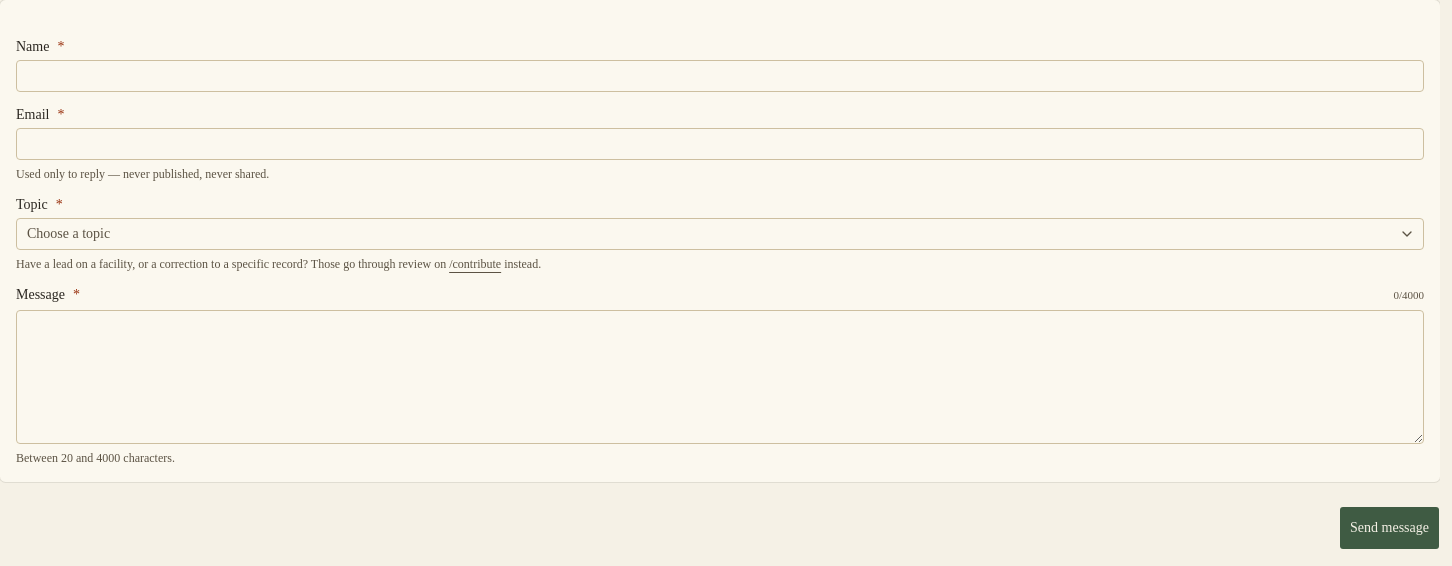
Test: ContactForm — submit outcomes › POSTs the trimmed payload (incl. chosen topic) to /api/contact
Step 1. Type "  Jane Reporter  " into the field labelled "Name *" → (720, 76), box [16,60,1424,92]
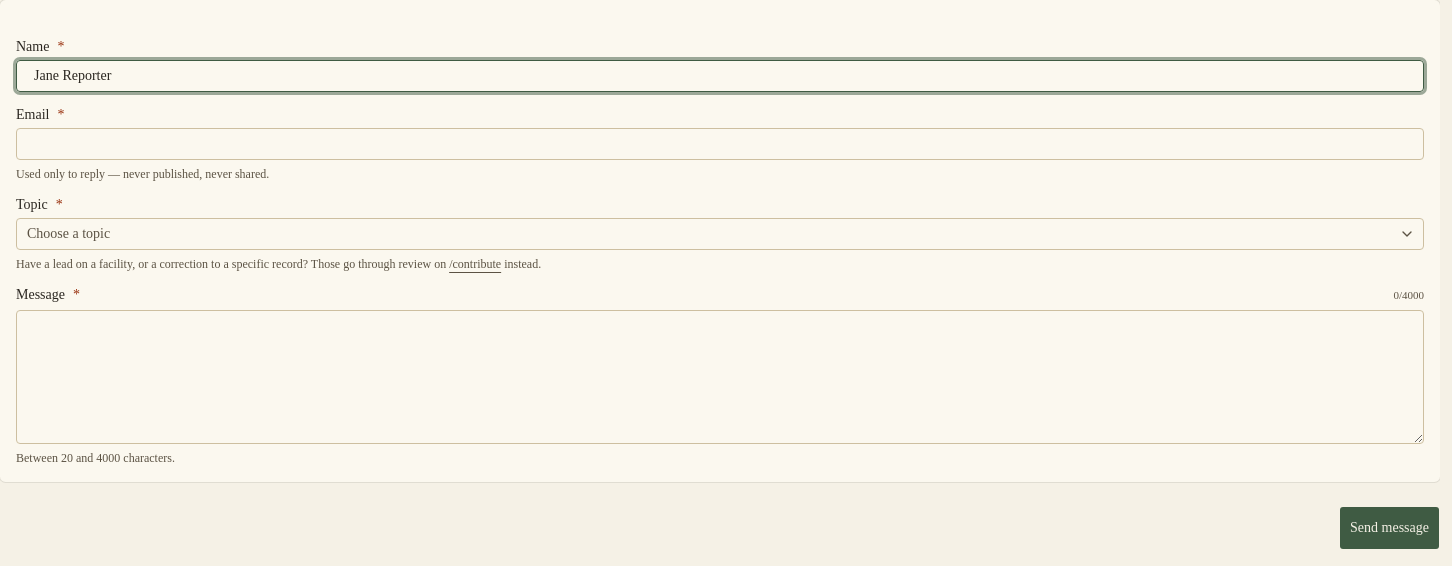
Step 2. Type "  jane@example.com  " into the field labelled "Email *" → (720, 144), box [16,128,1424,160]
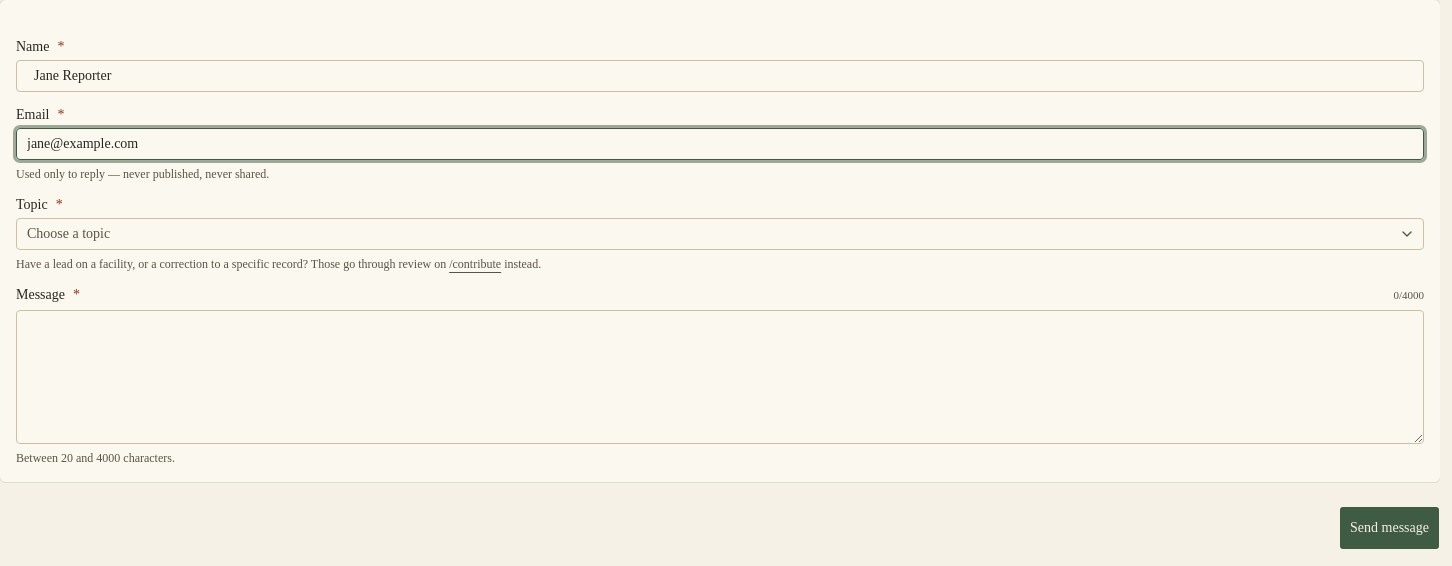
Step 3. Click the dropdown labelled "Choose a topic ▼" → (69, 234), box [16,218,1424,250]
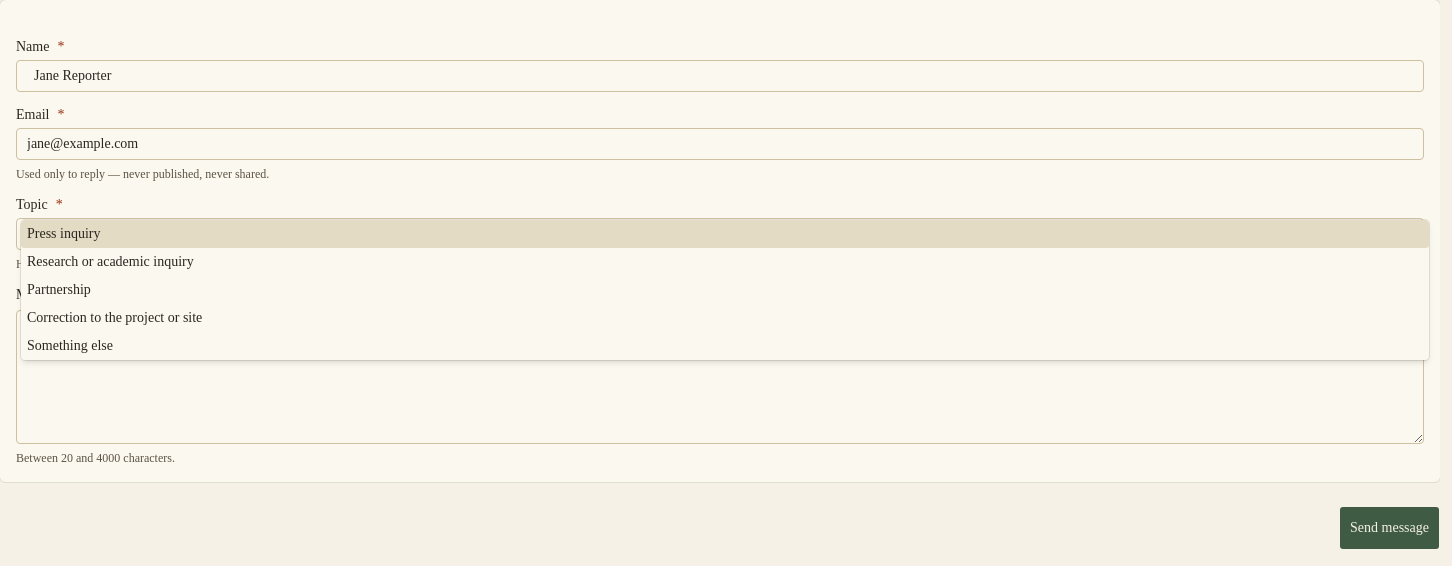
Step 4. Click the option "Press inquiry" → (64, 234), box [21,220,1429,248]
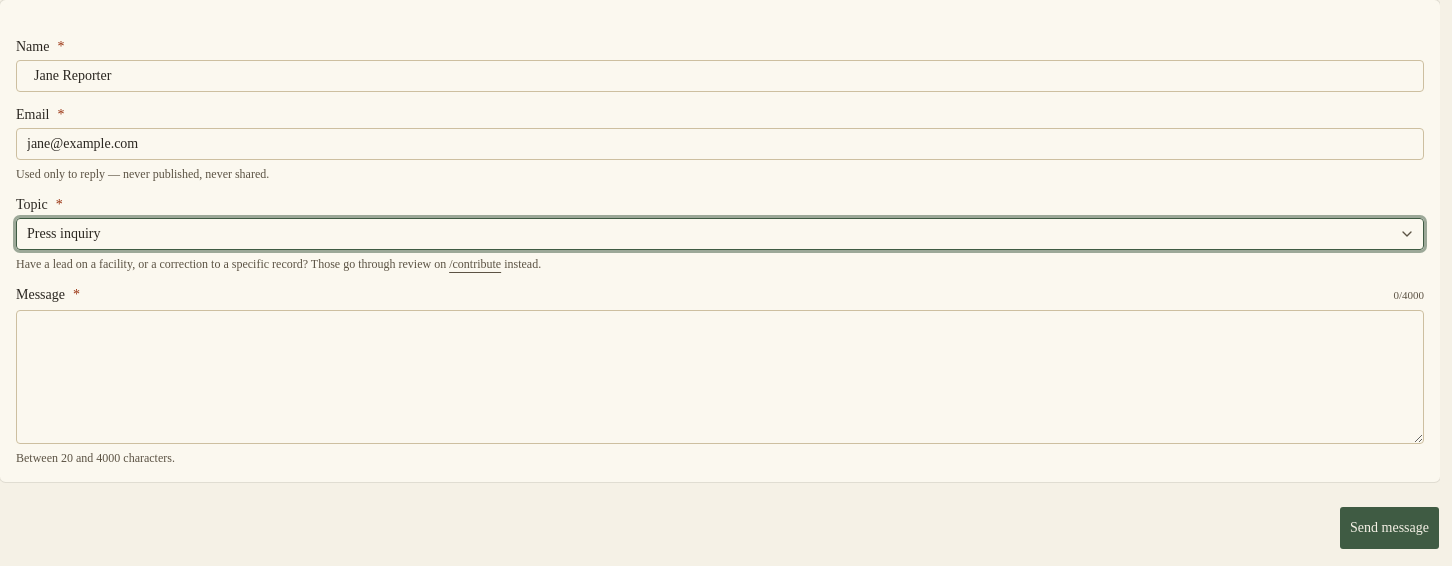
Step 5. Type "  I'm writing a story about data center siting and would like to talk.  " into the text box labelled "Message *" → (720, 377), box [16,310,1424,444]
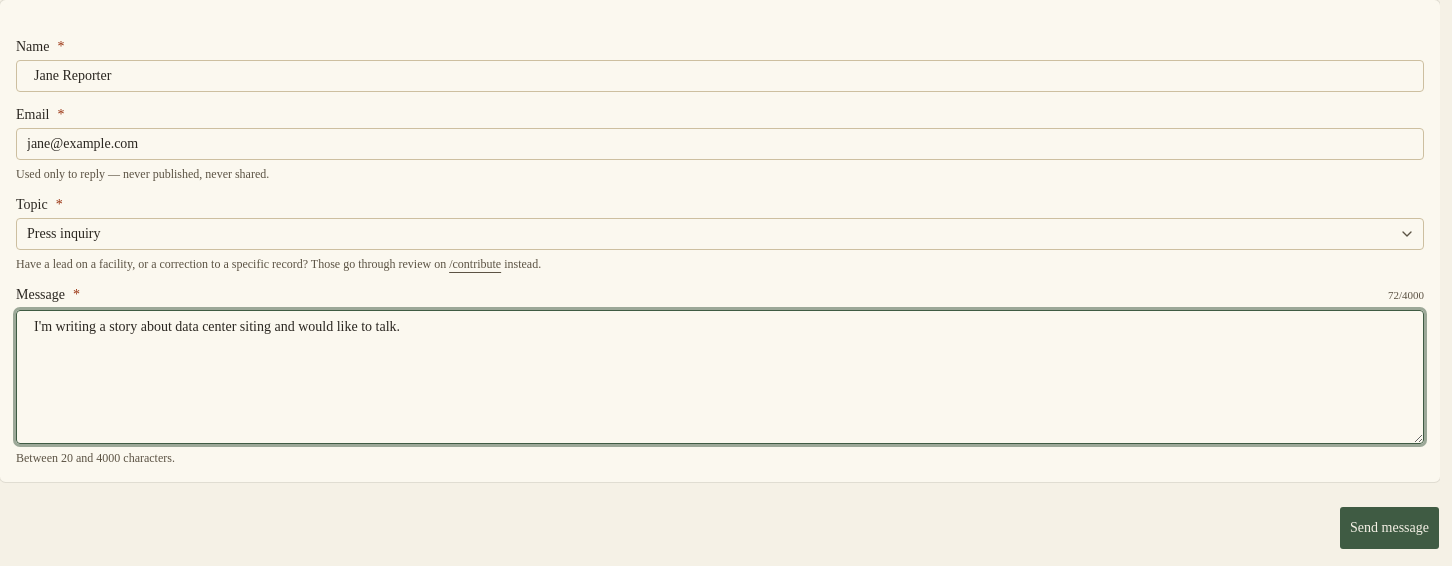
Step 6. Click the button "Send message" → (1390, 528), box [1339,506,1440,550]
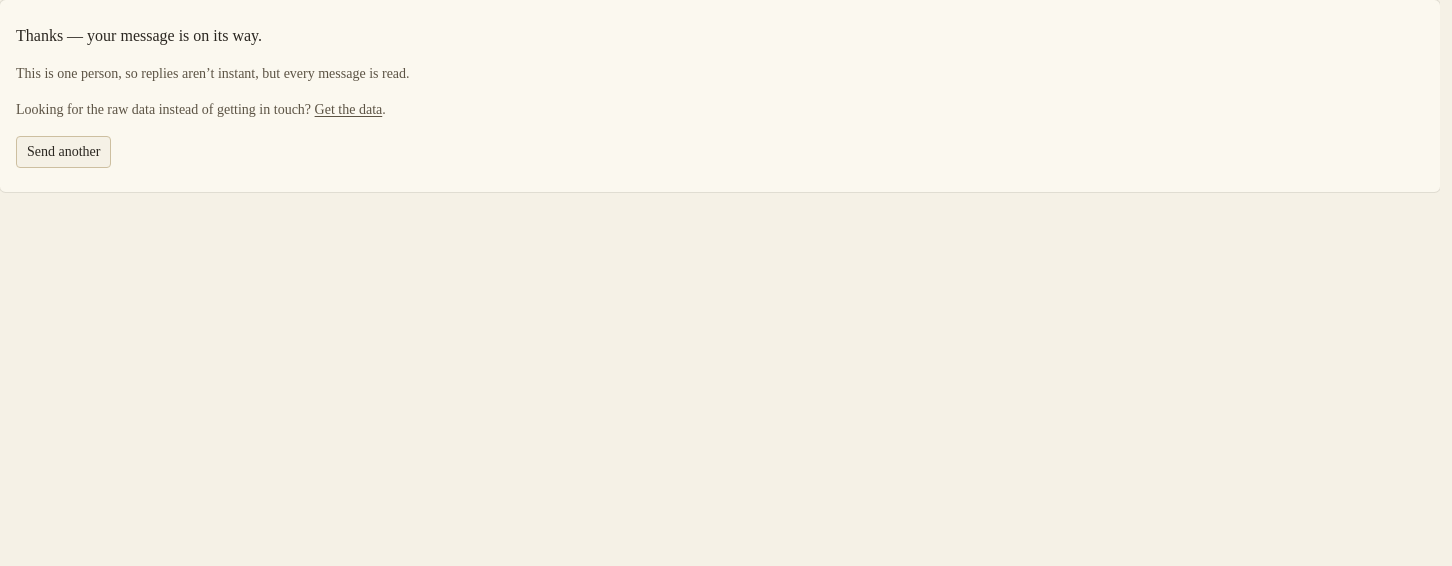
Check: the text "Thanks — your message is on its way." is shown, box [16,24,262,48]
